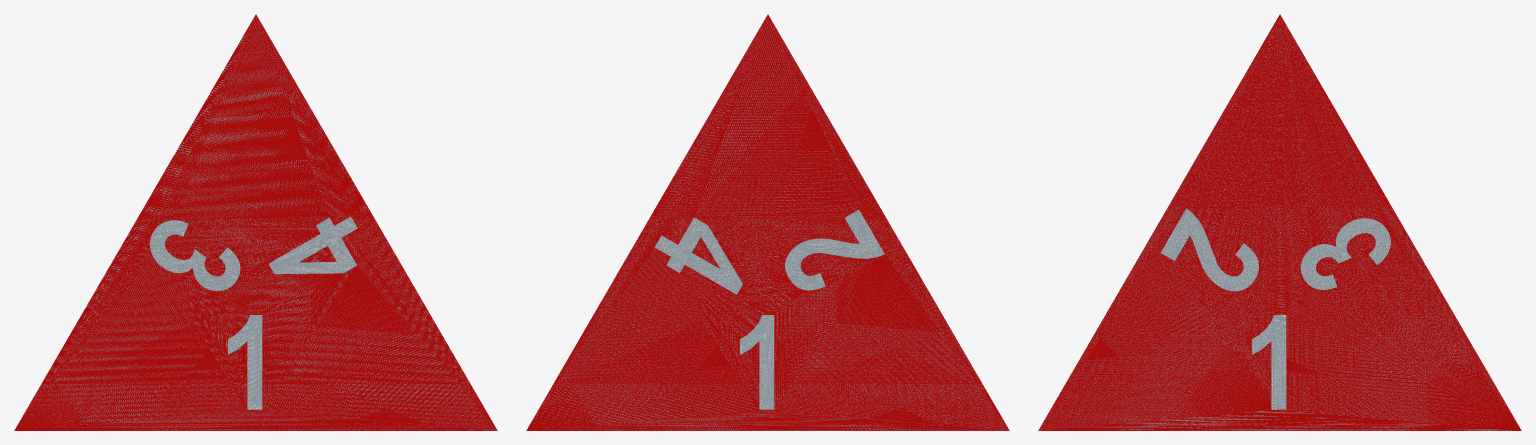
Rendered from Boardgame_D4_Red_01.fbx.
The picture shows the model from 3 angles, left to right: view 1: azimuth 30°, elevation 25°; view 2: azimuth 150°, elevation 25°; view 3: azimuth 270°, elevation 25°; orthographic projection.
Parts seen in each view (by area): view 1: Model; view 2: Model; view 3: Model.
Part boxes in pixels (<box>): Model: <box>14,14,497,430</box>; Model: <box>526,14,1009,430</box>; Model: <box>1038,14,1521,430</box>.
Bounding box in the file's own units: 152 × 143 × 176.
